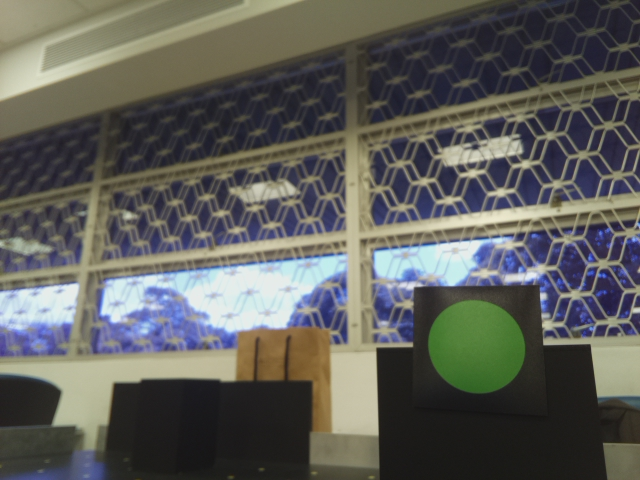go: (422, 291, 529, 403)
